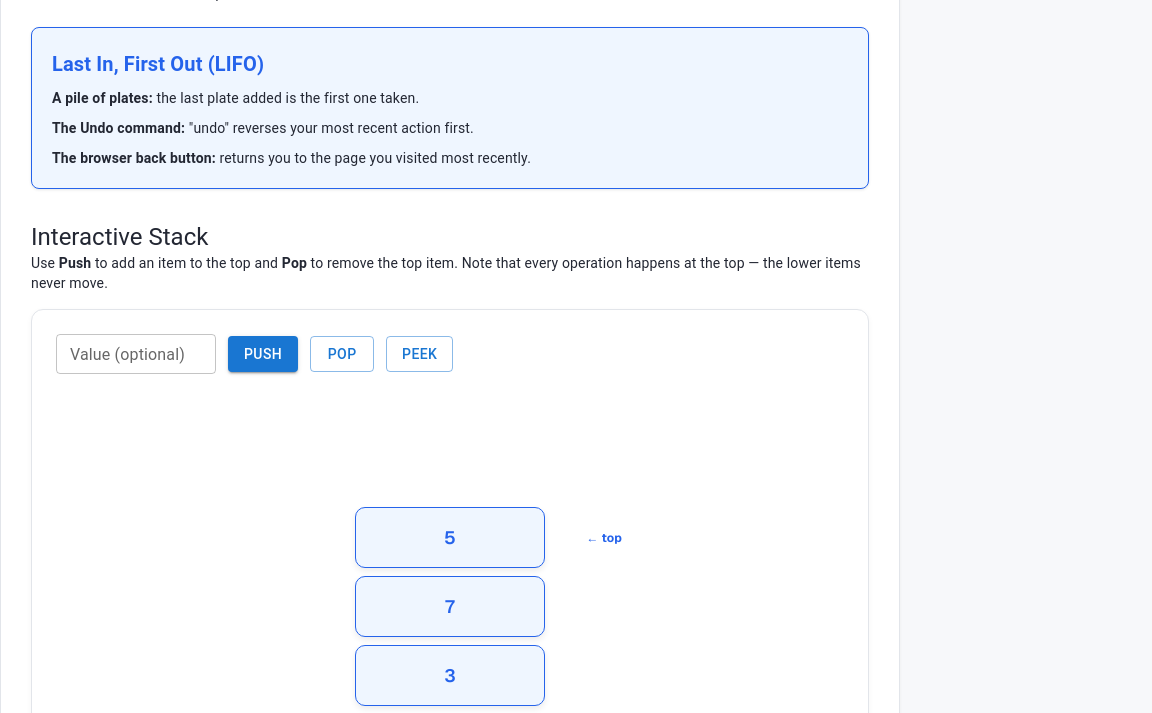
Scenario: StackConcept › pop removes the top item
(page scrolled)
What coordinates should you click on to do the following:
click the button "Pop"
I would click on:
 (342, 354)
Its box is [310,336,374,372].
(page scrolled)
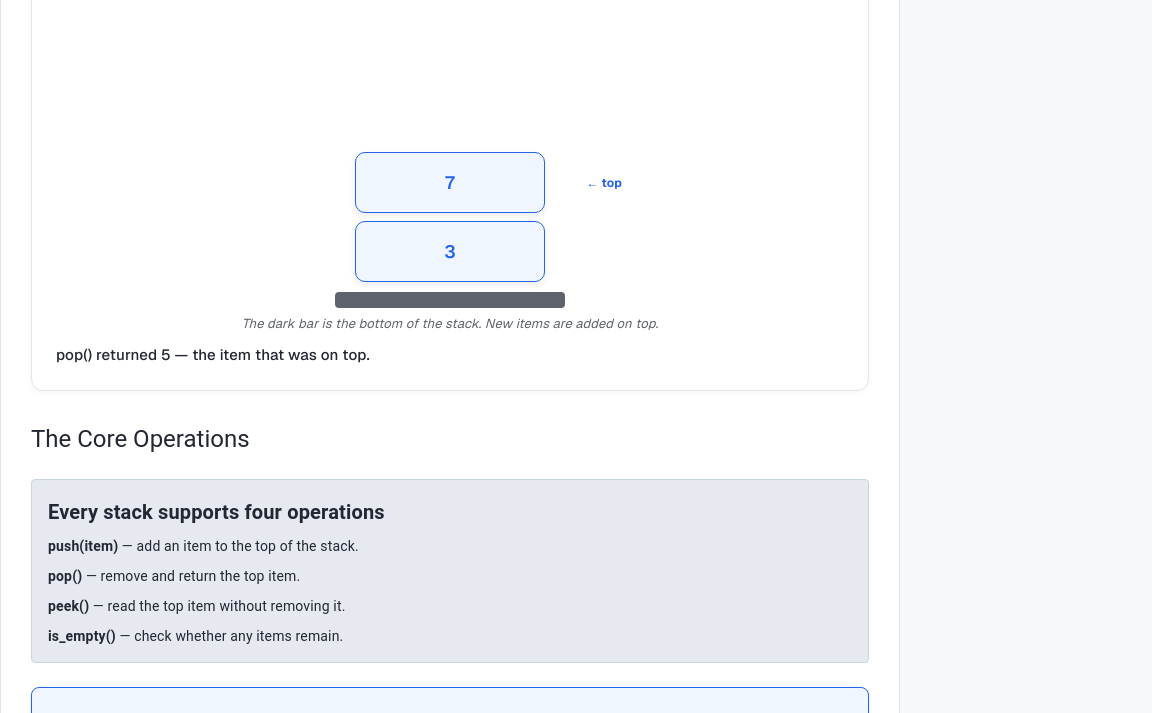
Expected: the number of elements with class "stack-item" is 2, [355,152,545,213]; [355,221,545,282]
Expected: the text "pop() returned 5 — the item that was on top." is shown, [56,344,370,364]
